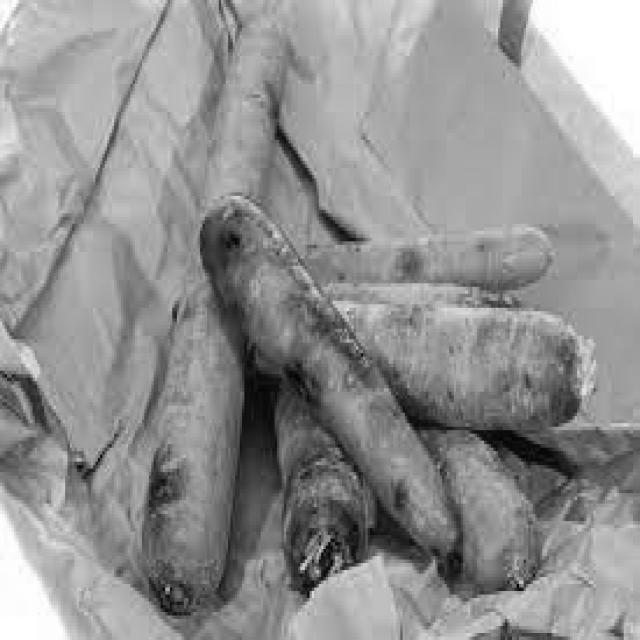Stale_Carrot: (200, 190, 388, 458), (144, 360, 230, 610), (356, 228, 544, 324), (278, 408, 366, 584), (456, 323, 584, 418)
